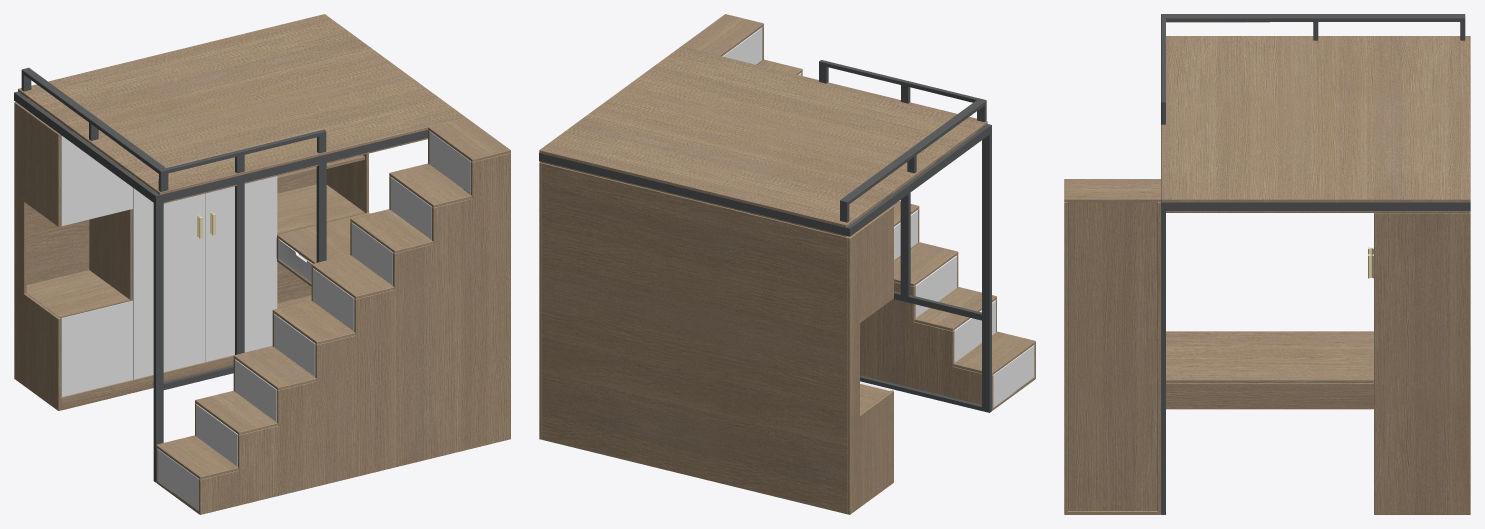
File: loft_style_bunk_bed.glb
3 renders of one model, left to right at view 1: azimuth 30°, elevation 25°; view 2: azimuth 150°, elevation 25°; view 3: azimuth 270°, elevation 25°, orthographic. The views are drawn at different scales.
Parts seen in each view (by area): view 1: Box013_Material #3_0, Box012_Material #3_0, Box029, Box014, Box059, Box060_Material #1_0, Object001_Material #3_0, Box047, Box072, Box002, Box070, Box069 (+4 smaller); view 2: Box002, Box012_Material #3_0, Box059, Object001_Material #3_0, Box013_Material #3_0, Box014, Box060_Material #1_0, Object002_Material #3_0; view 3: Object002_Material #3_0, Box012_Material #3_0, Box027, Box059, Object003_Material #3_0, Box013_Material #3_0, Box014.
Part boxes in pixels (x1=…): Box013_Material #3_0: x1=156, y1=130, x2=510, y2=514; Box012_Material #3_0: x1=18, y1=14, x2=466, y2=203; Box029: x1=132, y1=176, x2=277, y2=379; Box014: x1=156, y1=118, x2=510, y2=479; Box059: x1=14, y1=67, x2=427, y2=482; Box060_Material #1_0: x1=157, y1=131, x2=470, y2=510; Object001_Material #3_0: x1=14, y1=102, x2=60, y2=410; Box047: x1=26, y1=155, x2=364, y2=318; Box072: x1=61, y1=300, x2=132, y2=397; Box002: x1=26, y1=171, x2=316, y2=303; Box070: x1=61, y1=135, x2=132, y2=226; Box069: x1=89, y1=209, x2=131, y2=300; Box002: x1=542, y1=163, x2=848, y2=514; Box012_Material #3_0: x1=539, y1=46, x2=987, y2=236; Box059: x1=539, y1=60, x2=991, y2=412; Object001_Material #3_0: x1=847, y1=205, x2=893, y2=514; Box013_Material #3_0: x1=756, y1=26, x2=1035, y2=410; Box014: x1=681, y1=14, x2=1035, y2=375; Box060_Material #1_0: x1=722, y1=27, x2=1034, y2=407; Object002_Material #3_0: x1=539, y1=162, x2=541, y2=439; Object002_Material #3_0: x1=1068, y1=202, x2=1470, y2=514; Box012_Material #3_0: x1=1161, y1=36, x2=1470, y2=212; Box027: x1=1166, y1=331, x2=1373, y2=409; Box059: x1=1161, y1=14, x2=1470, y2=514; Object003_Material #3_0: x1=1166, y1=383, x2=1373, y2=406; Box013_Material #3_0: x1=1064, y1=202, x2=1160, y2=514; Box014: x1=1064, y1=179, x2=1160, y2=202.
Bounding box in the file's own units: 2.03 × 1.93 × 2.1.
4 materials, 2 textured.
